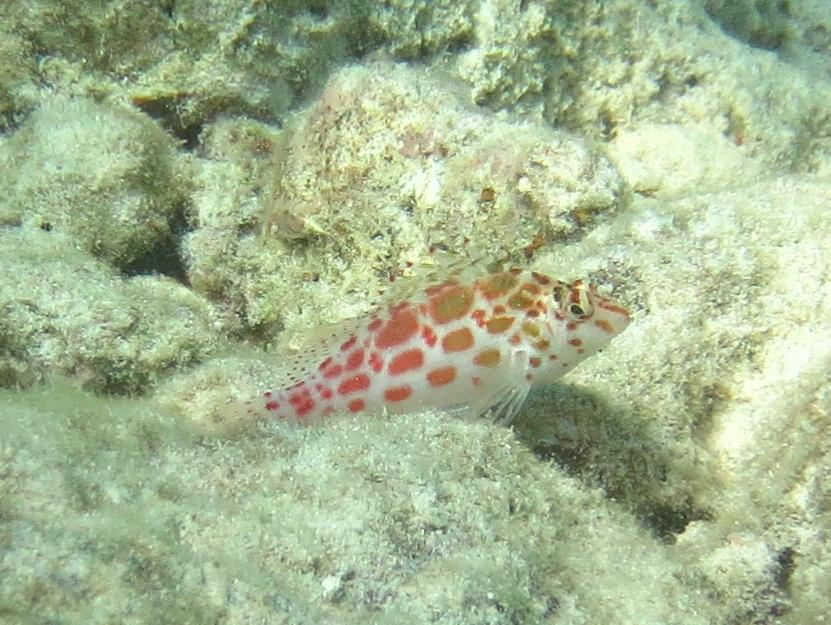Fish: (194, 267, 636, 448)
